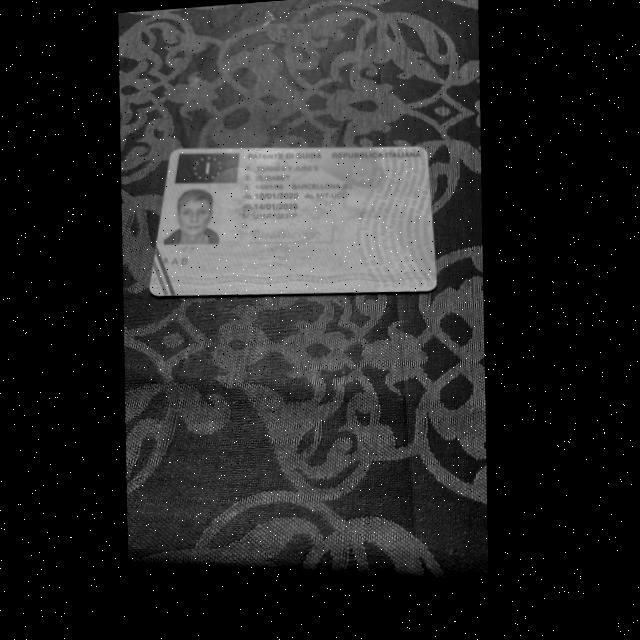card: (151, 147, 436, 296)
